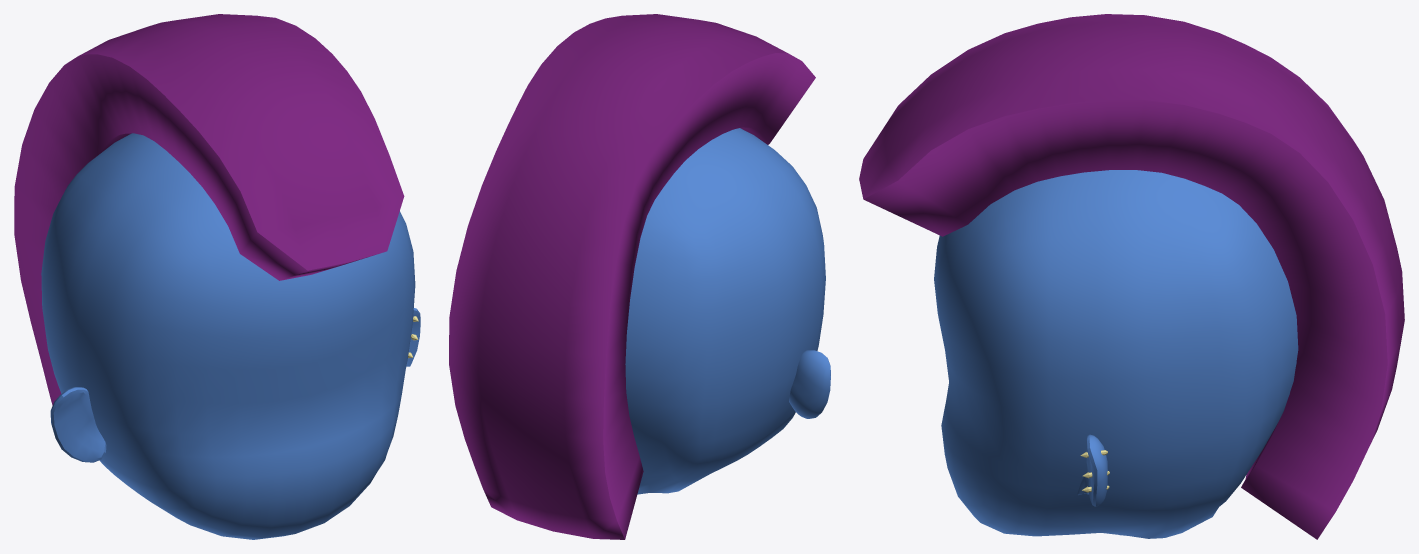
Rendered from Ragdoll_Grunt_Decapitated_Head.fbx.
3 renders of one model, left to right at view 1: azimuth 30°, elevation 25°; view 2: azimuth 150°, elevation 25°; view 3: azimuth 270°, elevation 25°, orthographic. The views are drawn at different scales.
Parts seen in each view (by area): view 1: Head, Hair(Grunt).001, Ears(Grunt); view 2: Hair(Grunt).001, Head, Ears(Grunt); view 3: Head, Hair(Grunt).001, Ears(Grunt).
Boxes of the visible parts, left/top/right/bottom form: Head: left=41, top=133, right=415, bottom=539; Hair(Grunt).001: left=14, top=14, right=404, bottom=405; Ears(Grunt): left=50, top=308, right=420, bottom=462; Hair(Grunt).001: left=449, top=14, right=815, bottom=539; Head: left=625, top=128, right=825, bottom=494; Ears(Grunt): left=789, top=350, right=830, bottom=418; Head: left=934, top=170, right=1298, bottom=538; Hair(Grunt).001: left=859, top=14, right=1404, bottom=539; Ears(Grunt): left=1077, top=434, right=1107, bottom=506.
Bounding box in the file's own units: 409 × 493 × 500.
